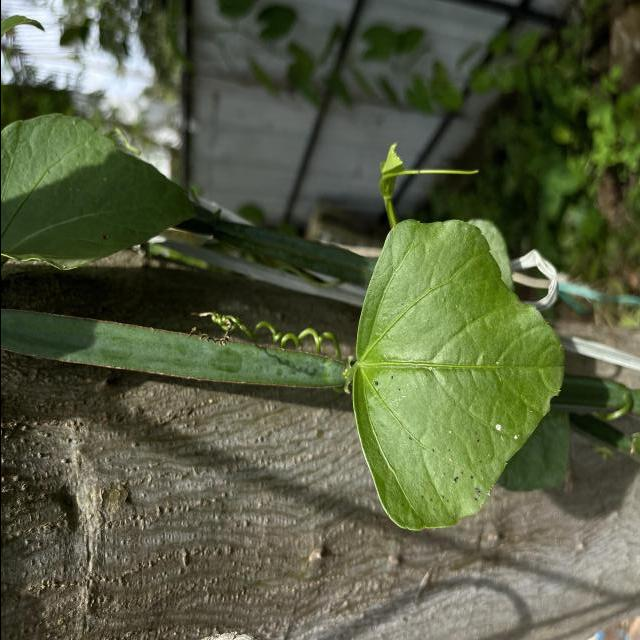Cissus quadrangularis: (349, 216, 567, 534)
